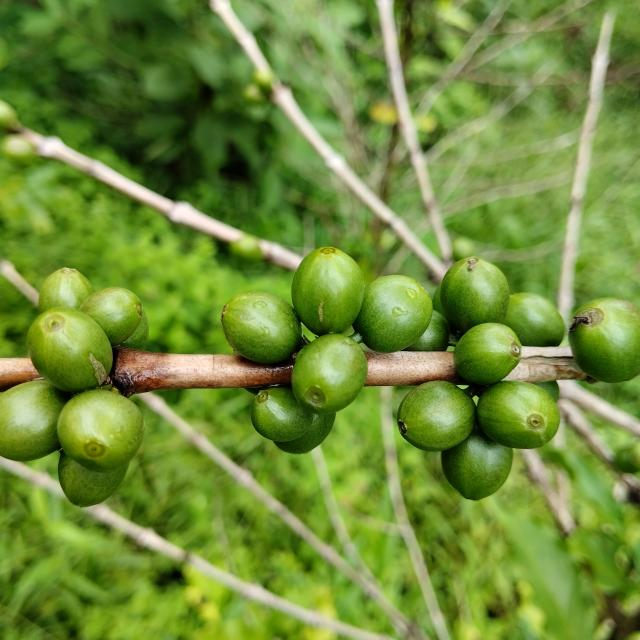green: (26, 308, 112, 393), (56, 390, 144, 473), (291, 246, 365, 336), (353, 275, 433, 353), (291, 334, 368, 415), (570, 298, 640, 383), (221, 291, 302, 364), (477, 381, 561, 449), (0, 380, 69, 462), (398, 381, 476, 452), (442, 425, 514, 501), (441, 256, 510, 333), (454, 323, 522, 385), (57, 451, 129, 508), (78, 287, 142, 346), (504, 292, 566, 347), (251, 388, 313, 442), (273, 414, 336, 455), (38, 268, 94, 312), (404, 310, 451, 352), (115, 309, 149, 350), (536, 381, 561, 403), (433, 283, 444, 315)
